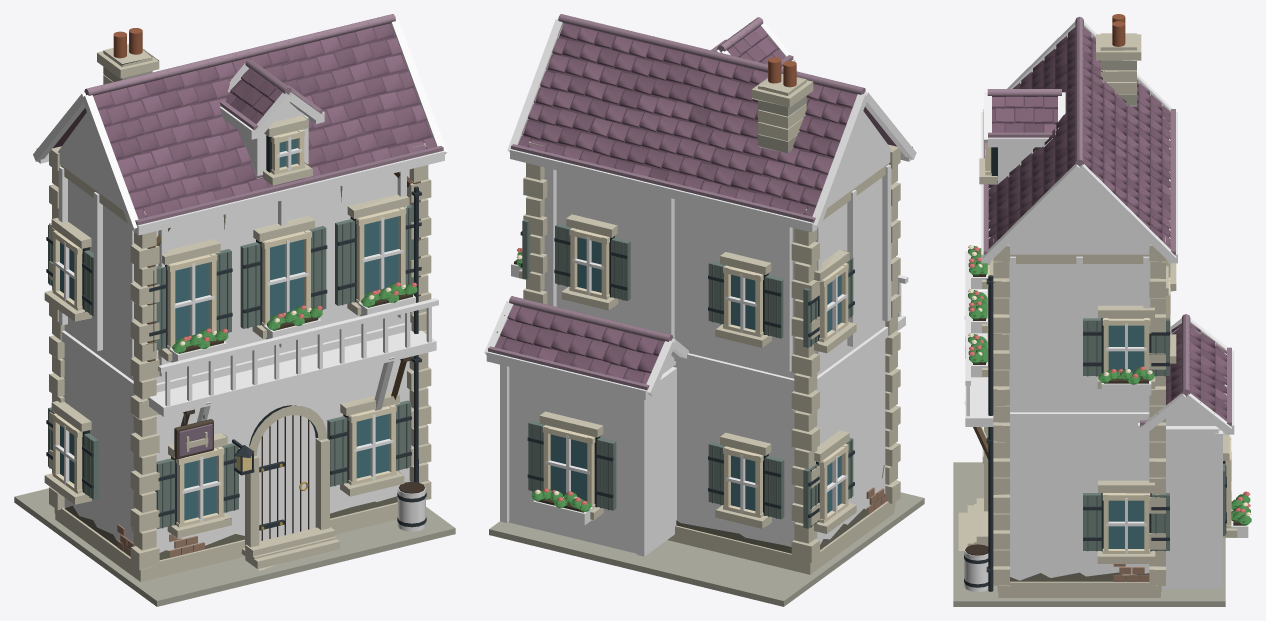
Rendered from inn.glb.
3 views of the same model, side by side, from view 1: azimuth 30°, elevation 25°; view 2: azimuth 150°, elevation 25°; view 3: azimuth 270°, elevation 25° (orthographic). The views are drawn at different scales.
Visible parts, largest first — view 1: SourceMesh_00005, SourceMesh_00097, SourceMesh_00000, SourceMesh_00567, SourceMesh_00088, SourceMesh_00150, SourceMesh_00089, SourceMesh_00006, SourceMesh_00084, SourceMesh_00091, SourceMesh_00581, SourceMesh_00090 (+50 smaller); view 2: SourceMesh_00005, SourceMesh_00097, SourceMesh_00641, SourceMesh_00000, SourceMesh_00654, SourceMesh_00085, SourceMesh_00086, SourceMesh_00091, SourceMesh_00006, SourceMesh_00084, SourceMesh_00087, SourceMesh_00668 (+41 smaller); view 3: SourceMesh_00005, SourceMesh_00097, SourceMesh_00641, SourceMesh_00094, SourceMesh_00000, SourceMesh_00654, SourceMesh_00085, SourceMesh_00143, SourceMesh_00006, SourceMesh_00637, SourceMesh_00088, SourceMesh_00084 (+34 smaller).
Part boxes in pixels (<box>): SourceMesh_00005: <box>62,169,413,552</box>; SourceMesh_00097: <box>93,23,436,219</box>; SourceMesh_00000: <box>14,488,455,606</box>; SourceMesh_00567: <box>145,330,436,416</box>; SourceMesh_00088: <box>94,24,432,217</box>; SourceMesh_00150: <box>257,415,315,541</box>; SourceMesh_00089: <box>133,151,444,235</box>; SourceMesh_00006: <box>54,502,397,576</box>; SourceMesh_00084: <box>55,322,411,397</box>; SourceMesh_00091: <box>58,112,122,209</box>; SourceMesh_00581: <box>158,298,438,372</box>; SourceMesh_00090: <box>135,146,443,225</box>; SourceMesh_00005: <box>535,167,888,546</box>; SourceMesh_00097: <box>518,23,857,216</box>; SourceMesh_00641: <box>508,367,676,554</box>; SourceMesh_00000: <box>489,492,924,606</box>; SourceMesh_00654: <box>495,305,664,384</box>; SourceMesh_00085: <box>522,23,855,214</box>; SourceMesh_00086: <box>510,149,817,232</box>; SourceMesh_00091: <box>827,111,891,207</box>; SourceMesh_00006: <box>674,501,895,568</box>; SourceMesh_00084: <box>671,326,892,393</box>; SourceMesh_00087: <box>511,144,815,222</box>; SourceMesh_00668: <box>637,398,648,556</box>; SourceMesh_00005: <box>1002,264,1157,580</box>; SourceMesh_00097: <box>988,27,1170,248</box>; SourceMesh_00641: <box>1158,426,1218,588</box>; SourceMesh_00094: <box>1006,173,1150,254</box>; SourceMesh_00000: <box>953,462,1225,606</box>; SourceMesh_00654: <box>1145,323,1226,421</box>; SourceMesh_00085: <box>1084,35,1168,240</box>; SourceMesh_00143: <box>992,96,1057,132</box>; SourceMesh_00006: <box>997,581,1161,592</box>; SourceMesh_00637: <box>988,275,993,591</box>; SourceMesh_00088: <box>990,35,1075,240</box>; SourceMesh_00084: <box>998,412,1160,422</box>.
Size of the model in its own units: 6.32 by 9.22 by 5.25.
